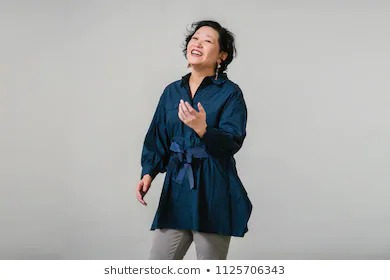C_blouse: (127, 65, 261, 240)
